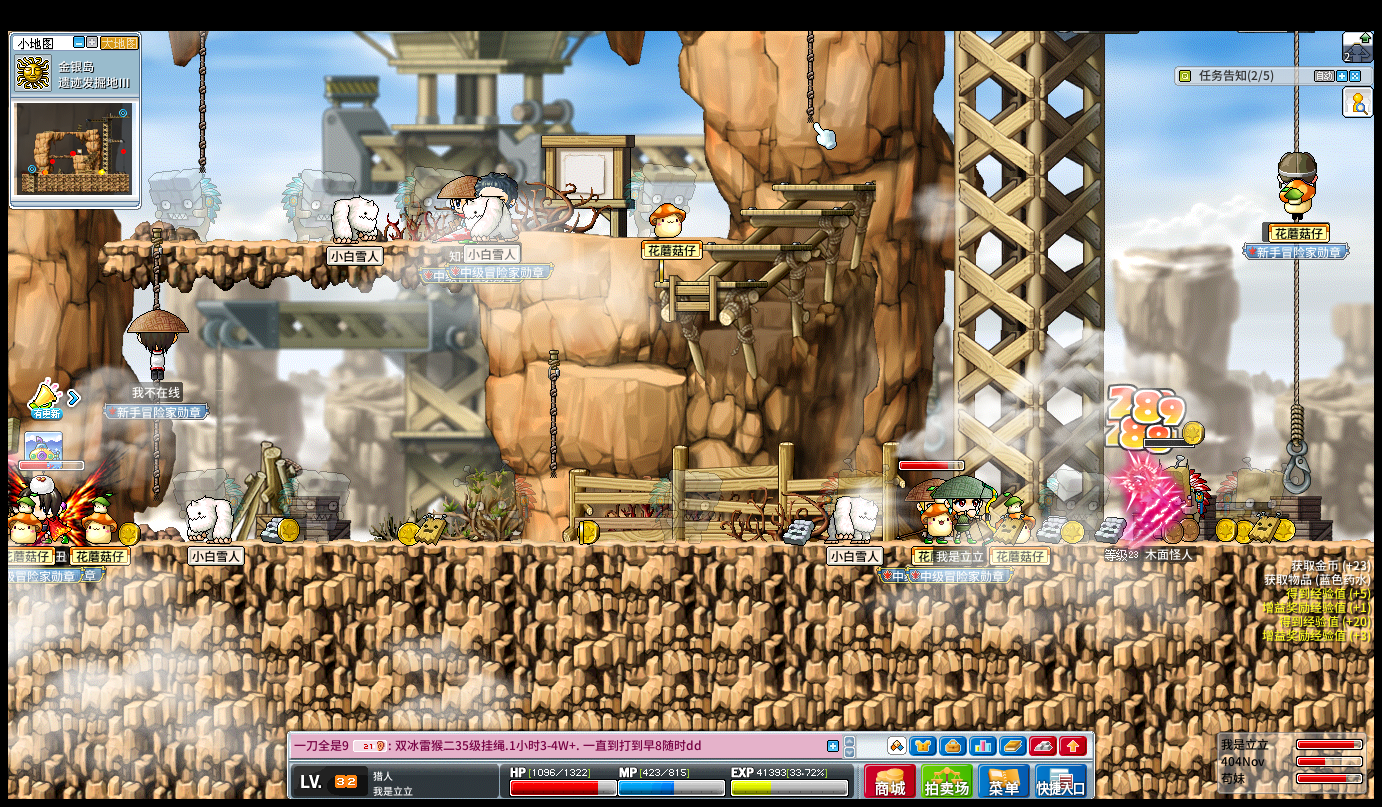floor: (101, 237, 481, 248), (578, 364, 688, 385), (599, 233, 735, 241), (651, 279, 765, 287), (699, 243, 809, 251), (736, 207, 848, 214), (771, 184, 874, 191)
monster: (1211, 459, 1298, 544), (1137, 457, 1207, 537), (147, 168, 222, 240), (1039, 468, 1103, 543), (280, 170, 340, 240), (624, 167, 700, 205), (396, 167, 443, 225)
rope: (545, 350, 561, 482), (1291, 257, 1302, 406), (198, 31, 207, 175), (150, 230, 162, 307), (1292, 29, 1299, 148), (805, 29, 813, 123), (151, 421, 160, 501), (1289, 399, 1304, 444)
